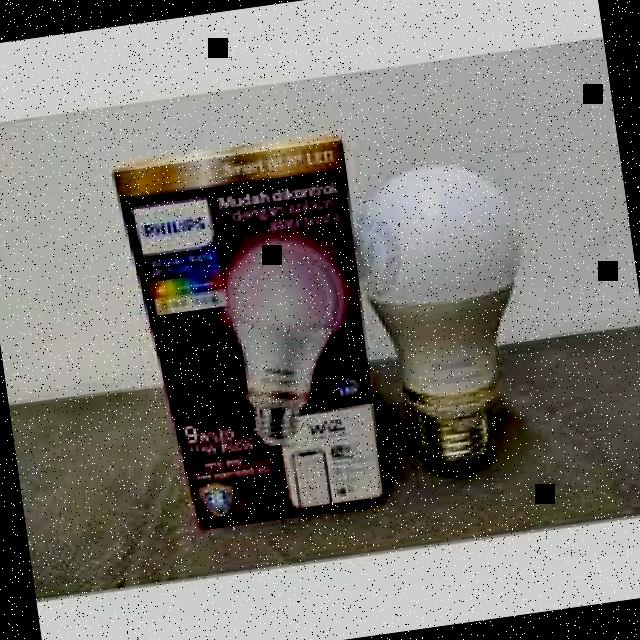light_bulb: (320, 127, 560, 495)
